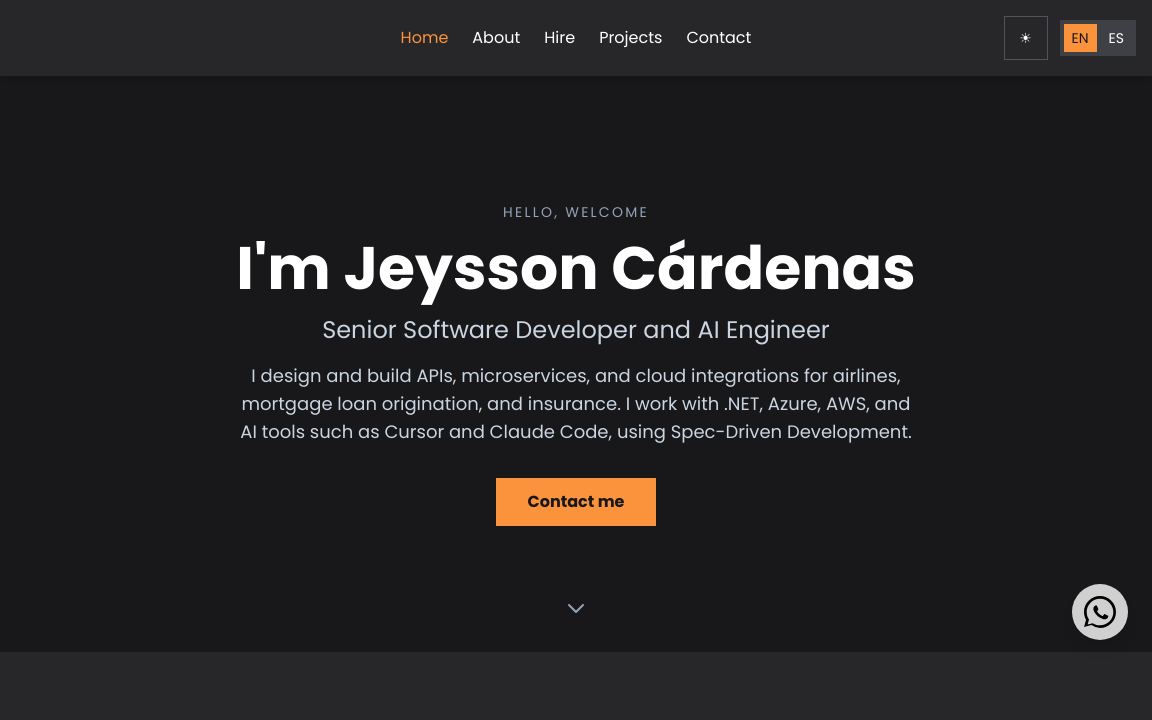
Test case: Motitech › switches the whole interface to Spanish
Click the button "ES": (1116,38) [1101,24,1132,52]
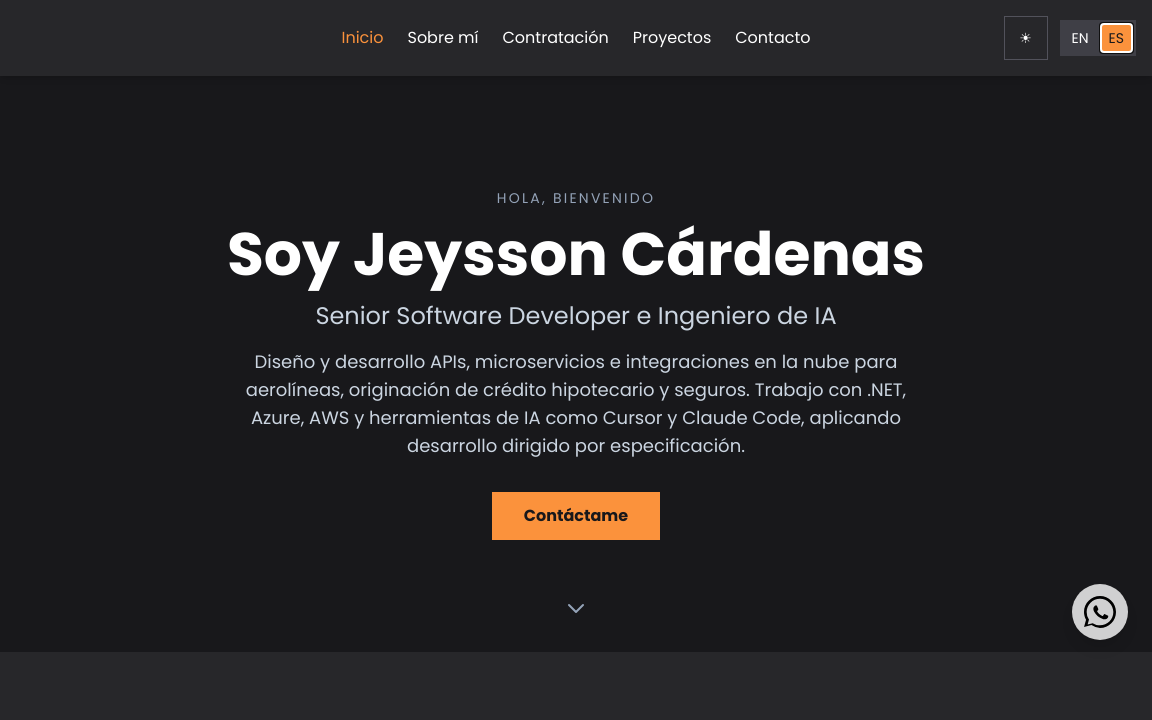
Expected: the heading "Soy Jeysson Cárdenas" is shown, [227,224,925,284]
Expected: the link "Proyectos" is shown, [633,26,711,50]
